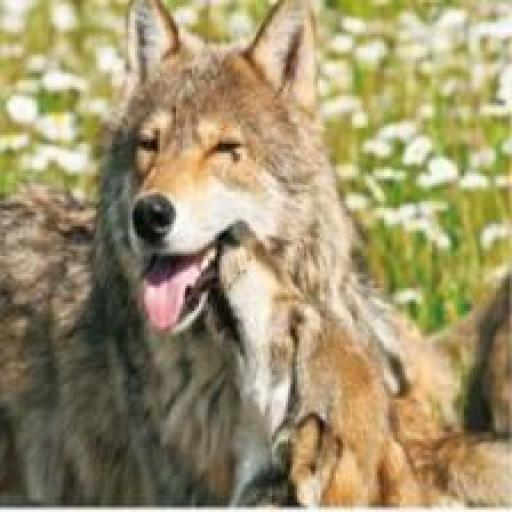wolf: (0, 0, 371, 512)
